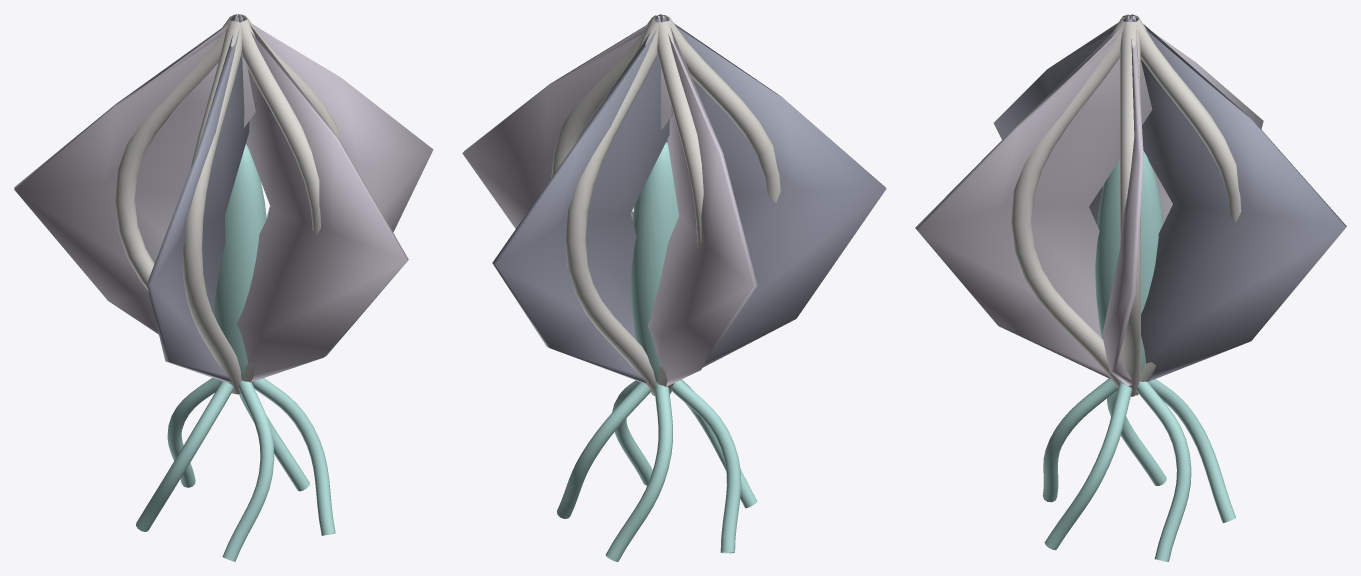
Rendered from bio_lantern_sail_03_near.glb.
The picture shows the model from 3 angles, left to right: view 1: azimuth 30°, elevation 25°; view 2: azimuth 150°, elevation 25°; view 3: azimuth 270°, elevation 25°; orthographic projection.
Parts seen in each view (by area): view 1: Ribbed sensory membrane.004, Ribbed sensory membrane.002, Ribbed sensory membrane.003, Ribbed sensory membrane, Buoyancy spindle, Membrane leading seam.003, Membrane leading seam.002, Membrane leading seam.004, Trailing electroreceptor.003, Trailing electroreceptor.004, Trailing electroreceptor.002, Trailing electroreceptor.001 (+2 smaller); view 2: Ribbed sensory membrane.003, Ribbed sensory membrane.001, Ribbed sensory membrane.002, Ribbed sensory membrane, Membrane leading seam.001, Buoyancy spindle, Membrane leading seam.003, Membrane leading seam.002, Trailing electroreceptor.002, Trailing electroreceptor.001, Trailing electroreceptor, Membrane leading seam (+2 smaller); view 3: Ribbed sensory membrane.001, Ribbed sensory membrane.004, Membrane leading seam.004, Ribbed sensory membrane, Buoyancy spindle, Membrane leading seam, Membrane leading seam.001, Trailing electroreceptor, Ribbed sensory membrane.003, Trailing electroreceptor.004, Trailing electroreceptor.001, Trailing electroreceptor.003 (+2 smaller).
Part boxes in pixels (left/top/right/bottom): Ribbed sensory membrane.004: left=236, top=14, right=408, bottom=382; Ribbed sensory membrane.002: left=14, top=16, right=256, bottom=334; Ribbed sensory membrane.003: left=147, top=16, right=249, bottom=382; Ribbed sensory membrane: left=236, top=14, right=433, bottom=232; Buoyancy spindle: left=214, top=144, right=266, bottom=379; Membrane leading seam.003: left=182, top=21, right=241, bottom=394; Membrane leading seam.002: left=114, top=16, right=233, bottom=290; Membrane leading seam.004: left=240, top=19, right=320, bottom=393; Trailing electroreceptor.003: left=222, top=380, right=274, bottom=561; Trailing electroreceptor.004: left=252, top=378, right=335, bottom=535; Trailing electroreceptor.002: left=136, top=381, right=233, bottom=531; Trailing electroreceptor.001: left=167, top=377, right=221, bottom=487; Ribbed sensory membrane.003: left=660, top=14, right=886, bottom=367; Ribbed sensory membrane.001: left=492, top=16, right=669, bottom=383; Ribbed sensory membrane.002: left=647, top=15, right=757, bottom=386; Ribbed sensory membrane: left=462, top=16, right=672, bottom=228; Membrane leading seam.001: left=565, top=19, right=658, bottom=395; Buoyancy spindle: left=631, top=142, right=678, bottom=382; Membrane leading seam.003: left=666, top=16, right=780, bottom=394; Membrane leading seam.002: left=657, top=21, right=703, bottom=392; Trailing electroreceptor.002: left=671, top=380, right=741, bottom=553; Trailing electroreceptor.001: left=605, top=383, right=672, bottom=561; Trailing electroreceptor: left=557, top=382, right=651, bottom=518; Membrane leading seam: left=551, top=15, right=658, bottom=177; Ribbed sensory membrane.001: left=1130, top=14, right=1346, bottom=381; Ribbed sensory membrane.004: left=915, top=16, right=1152, bottom=379; Membrane leading seam.004: left=1011, top=17, right=1124, bottom=387; Ribbed sensory membrane: left=1102, top=16, right=1143, bottom=386; Buoyancy spindle: left=1095, top=150, right=1163, bottom=372; Membrane leading seam: left=1120, top=22, right=1140, bottom=396; Membrane leading seam.001: left=1136, top=17, right=1241, bottom=395; Trailing electroreceptor: left=1136, top=381, right=1191, bottom=561; Ribbed sensory membrane.003: left=993, top=16, right=1130, bottom=224; Trailing electroreceptor.004: left=1044, top=382, right=1132, bottom=550; Trailing electroreceptor.001: left=1148, top=379, right=1235, bottom=522; Trailing electroreceptor.003: left=1042, top=378, right=1117, bottom=502.
Bounding box in the file's own units: 1.98 × 2.69 × 2.07.
